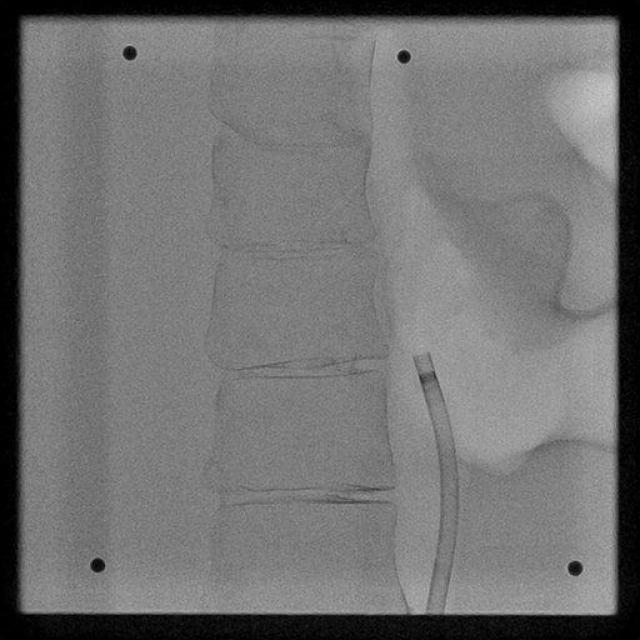bend: (434, 550, 456, 565)
entry: (425, 610, 444, 614)
marker: (418, 370, 438, 386)
tip: (414, 351, 431, 360)
